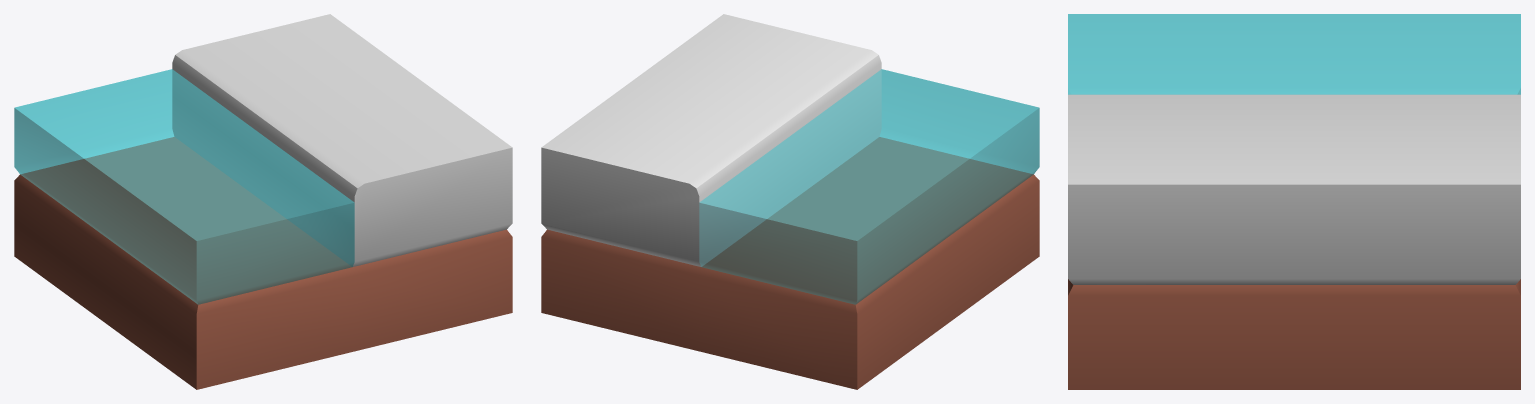
File: square_snow_waterStraight.fbx
3 renders of one model, left to right at view 1: azimuth 30°, elevation 25°; view 2: azimuth 150°, elevation 25°; view 3: azimuth 270°, elevation 25°, orthographic. The views are drawn at different scales.
Parts seen in each view (by area): view 1: square_snow_waterStraight; view 2: square_snow_waterStraight; view 3: square_snow_waterStraight.
Part boxes in pixels (<box>): square_snow_waterStraight: <box>14,14,512,389</box>; square_snow_waterStraight: <box>541,14,1039,389</box>; square_snow_waterStraight: <box>1068,14,1520,389</box>.
Bounding box in the file's own units: 2 × 1 × 2.
